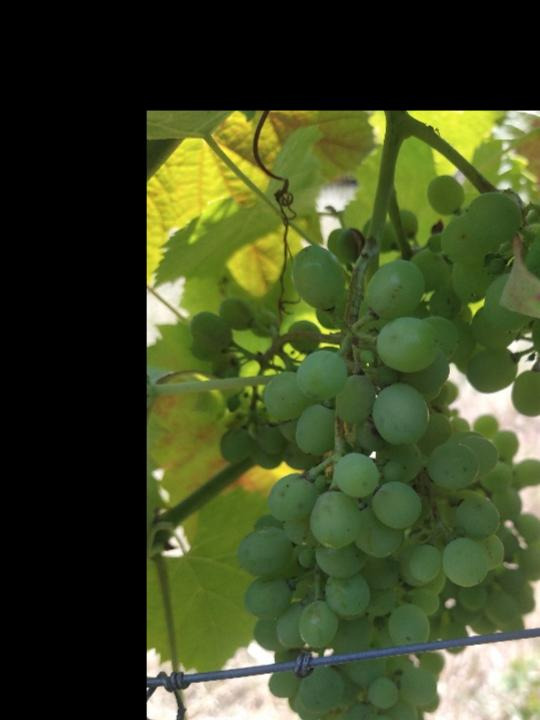grape: (189, 173, 540, 720)
